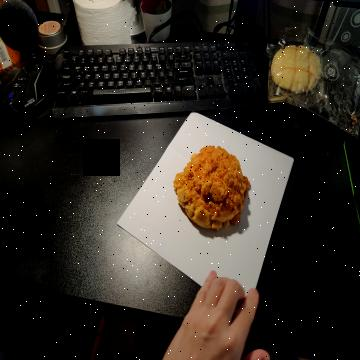soboru_bread: (172, 143, 250, 230)
